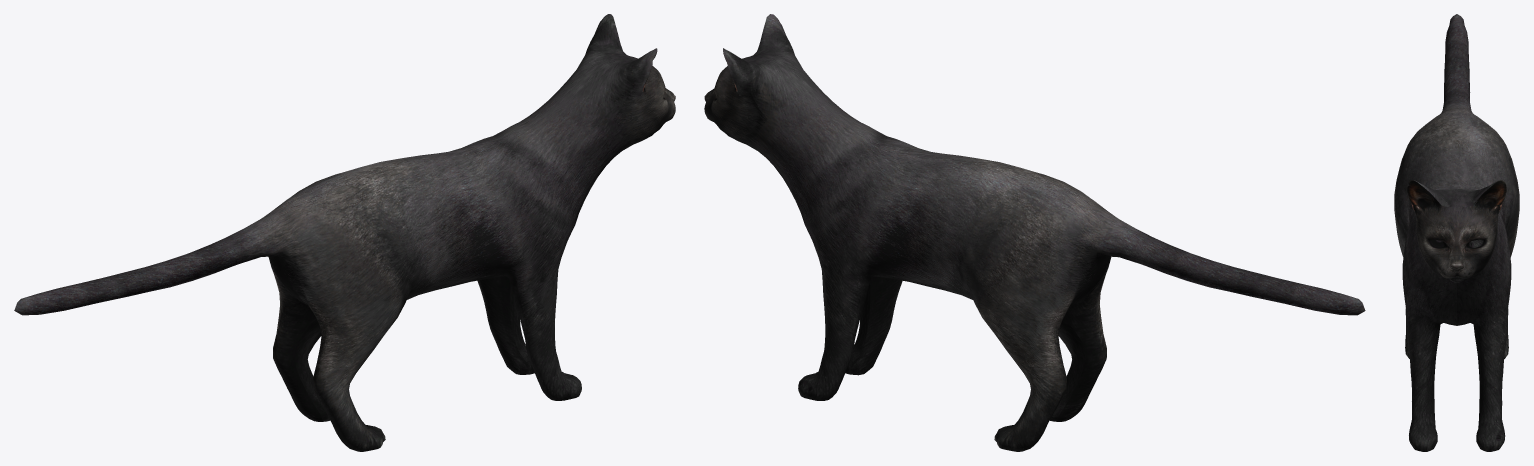
Rendered from cat.glb.
3 views of the same model, side by side, from view 1: azimuth 30°, elevation 25°; view 2: azimuth 150°, elevation 25°; view 3: azimuth 270°, elevation 25° (orthographic). The views are drawn at different scales.
Parts seen in each view (by area): view 1: GLTF_created_0; view 2: GLTF_created_0; view 3: GLTF_created_0.
Part boxes in pixels (x1,y1,x2,y2): GLTF_created_0: [14, 14, 675, 451]; GLTF_created_0: [704, 14, 1365, 451]; GLTF_created_0: [1394, 14, 1519, 451].
Bounding box in the file's own units: 10.86 × 5.18 × 1.94.
Materials: 1 (1 with a texture image).
